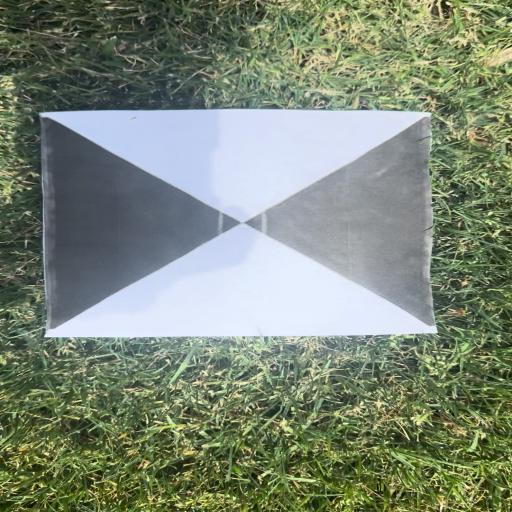target: (39, 112, 439, 331)
